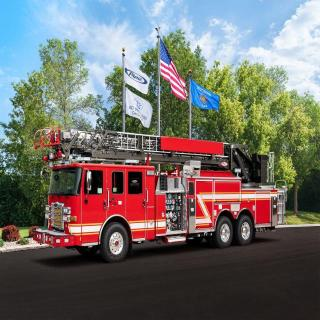Fire_truck: (32, 125, 288, 263)
